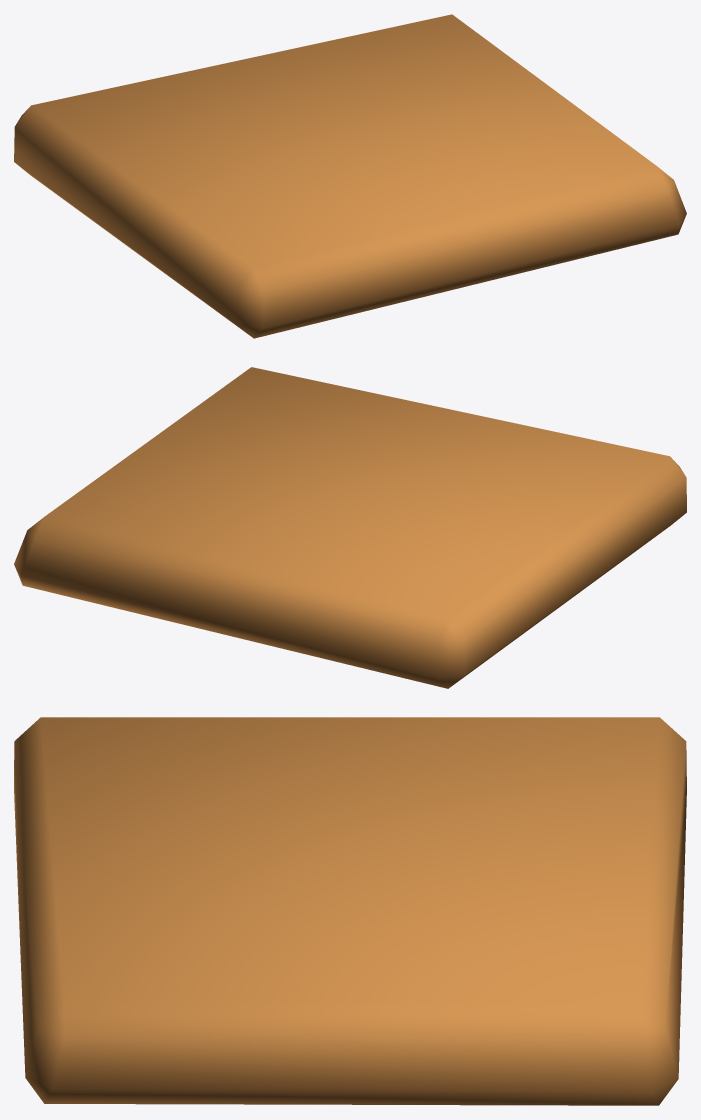
File: slab_a_lo.glb
3 renders of one model, top to bottom at view 1: azimuth 30°, elevation 25°; view 2: azimuth 150°, elevation 25°; view 3: azimuth 270°, elevation 25°, orthographic. The views are drawn at different scales.
Parts seen in each view (by area): view 1: slab_a_lo; view 2: slab_a_lo; view 3: slab_a_lo.
Part boxes in pixels (bbox=[...]): slab_a_lo: bbox=[14, 14, 686, 338]; slab_a_lo: bbox=[14, 367, 686, 688]; slab_a_lo: bbox=[14, 717, 686, 1105].
Size of the model in its own units: 1.09 by 0.1622 by 0.9997.
